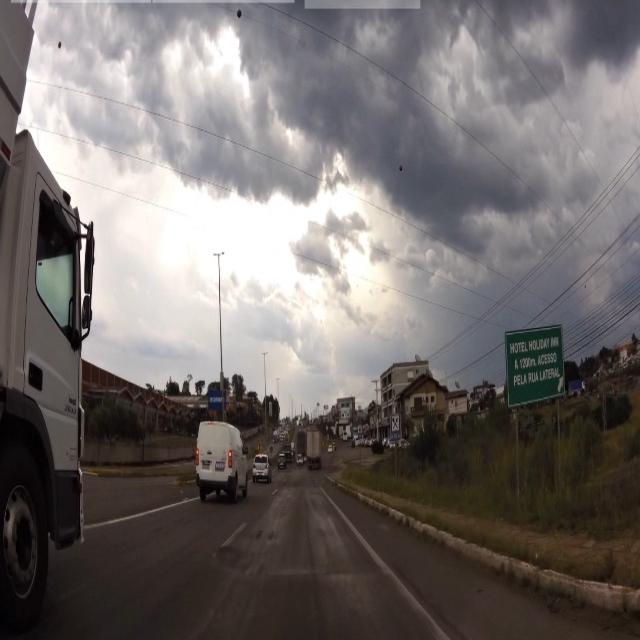I-4: (507, 334, 565, 405)
